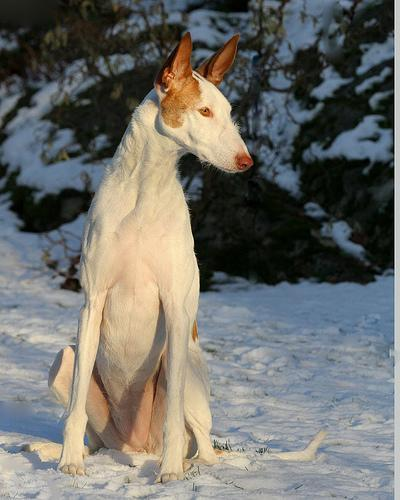Ibizan_hound: (43, 30, 331, 486)
